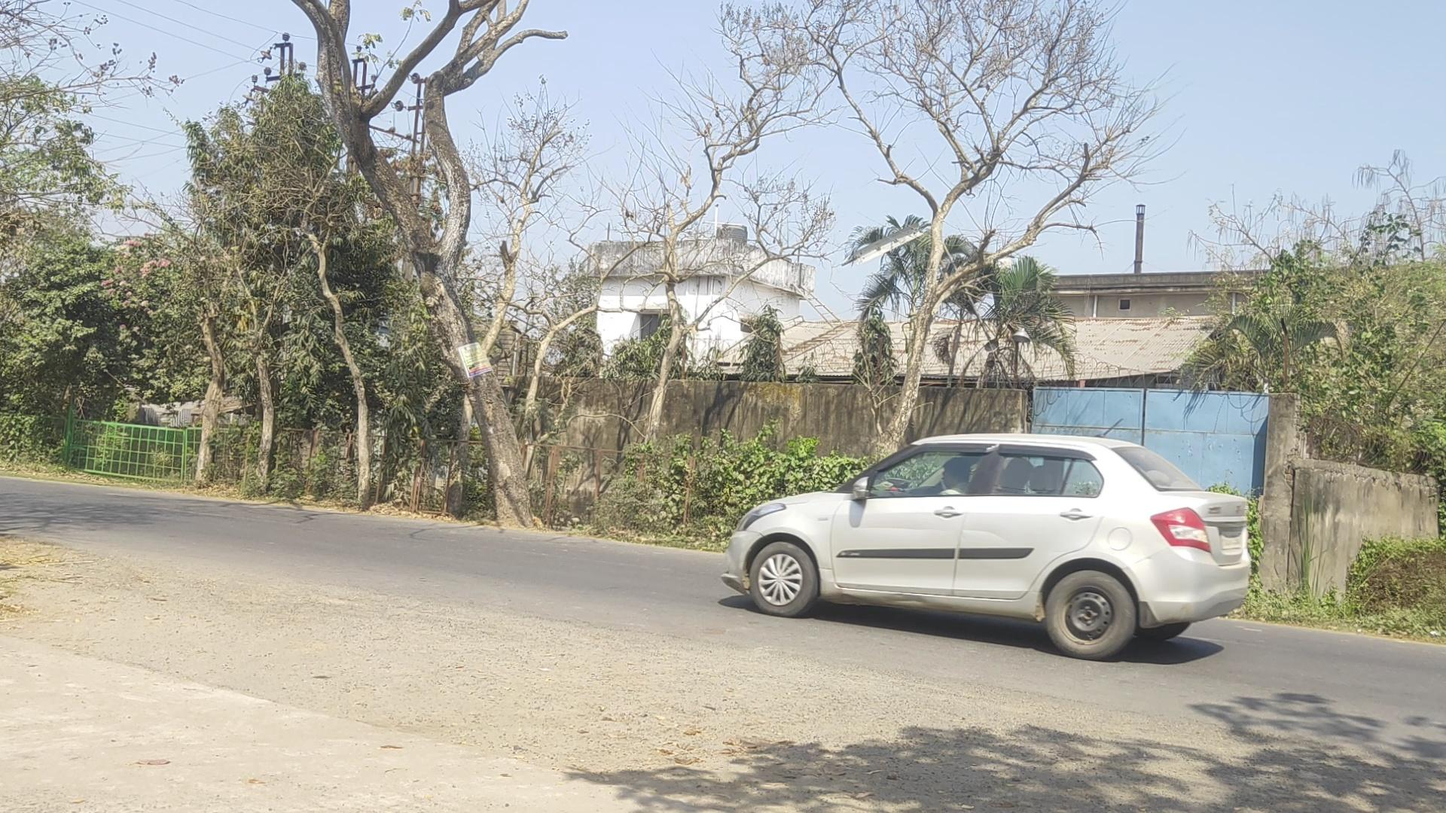car: (721, 432, 1252, 660)
